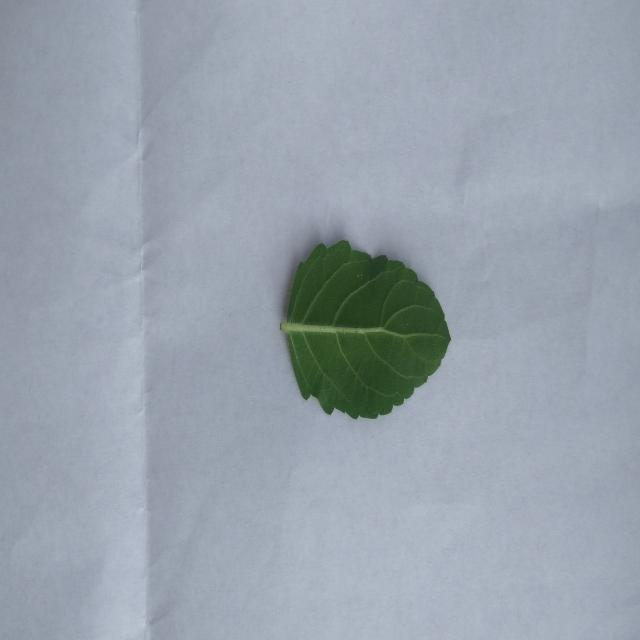tulsi: (281, 240, 450, 418)
